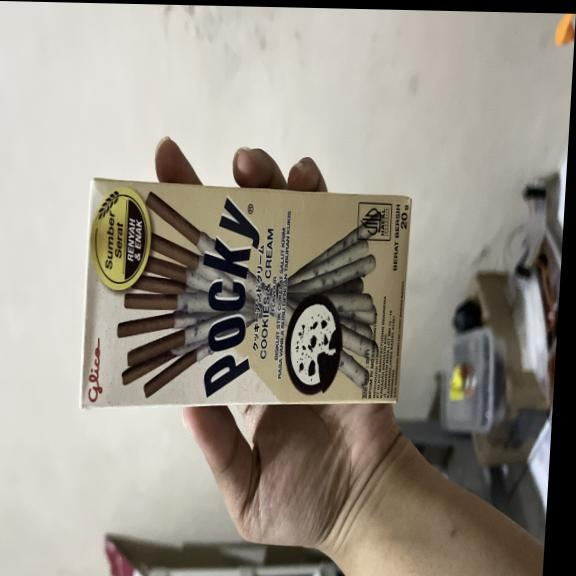Kertas: (79, 190, 410, 415)
